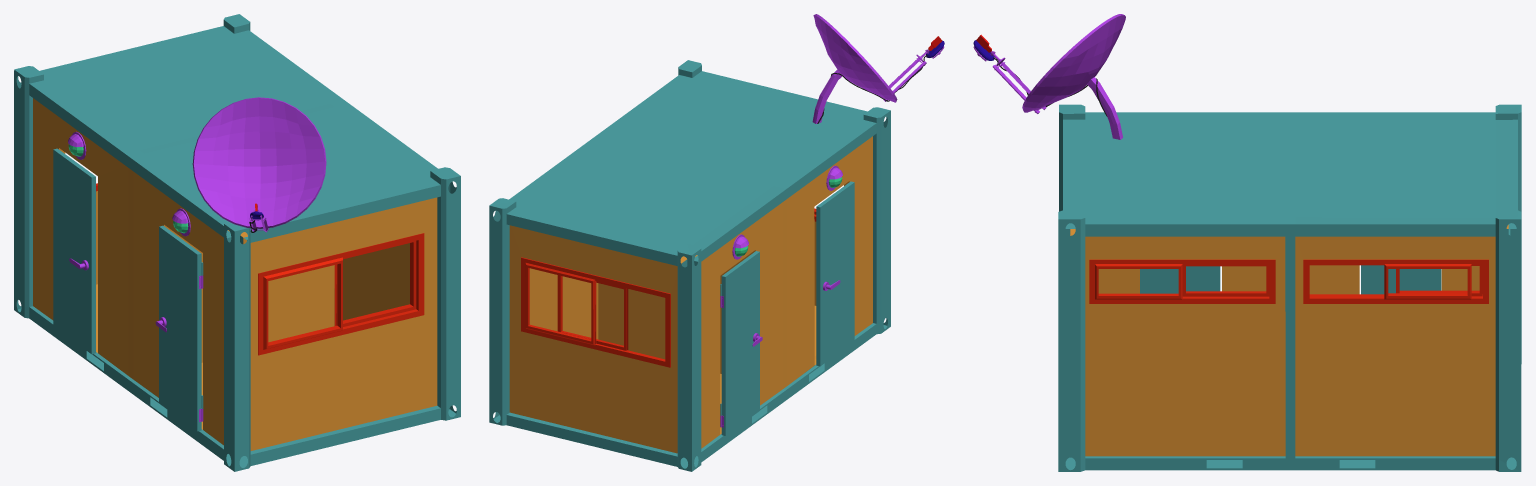
File: baraka_without_handle.fbx
3 renders of one model, left to right at view 1: azimuth 30°, elevation 25°; view 2: azimuth 150°, elevation 25°; view 3: azimuth 270°, elevation 25°, orthographic. The views are drawn at different scales.
Parts seen in each view (by area): view 1: Main_Body, Anthena, Door.001, Door, Main_Body.001, Window_Right_Side_Left, Window_Right_Side_Right; view 2: Main_Body, Door, Door.001, Anthena, Main_Body.004, Window_Left_Side_Left, Window_Left_Side_Right; view 3: Main_Body, Anthena, Main_Body.003, Main_Body.002, Door.001, Door, Window_Right_Back_Side_Left, Window_Left_Back_Side_Left, Window_Left_Back_Side_Right, Window_Right_Back_Side_Right.
Part boxes in pixels (bbox=[...]): Main_Body: bbox=[14, 14, 460, 471]; Anthena: bbox=[192, 97, 326, 232]; Door.001: bbox=[159, 225, 203, 431]; Door: bbox=[53, 148, 95, 354]; Main_Body.001: bbox=[258, 233, 424, 355]; Window_Right_Side_Left: bbox=[263, 257, 342, 349]; Window_Right_Side_Right: bbox=[334, 240, 416, 326]; Main_Body: bbox=[489, 60, 890, 471]; Door: bbox=[720, 251, 759, 435]; Door.001: bbox=[816, 181, 854, 366]; Anthena: bbox=[812, 14, 944, 123]; Main_Body.004: bbox=[521, 257, 670, 367]; Window_Left_Side_Left: bbox=[525, 262, 596, 345]; Window_Left_Side_Right: bbox=[557, 275, 628, 350]; Main_Body: bbox=[1058, 104, 1521, 471]; Anthena: bbox=[973, 14, 1125, 139]; Main_Body.003: bbox=[1303, 259, 1488, 303]; Main_Body.002: bbox=[1089, 259, 1275, 303]; Door.001: bbox=[1140, 266, 1220, 293]; Door: bbox=[1361, 265, 1441, 294]; Window_Right_Back_Side_Left: bbox=[1384, 264, 1471, 299]; Window_Left_Back_Side_Left: bbox=[1095, 264, 1182, 299]; Window_Left_Back_Side_Right: bbox=[1182, 265, 1269, 296]; Window_Right_Back_Side_Right: bbox=[1396, 265, 1482, 296].
Size of the model in its own units: 293 by 390 by 536.
